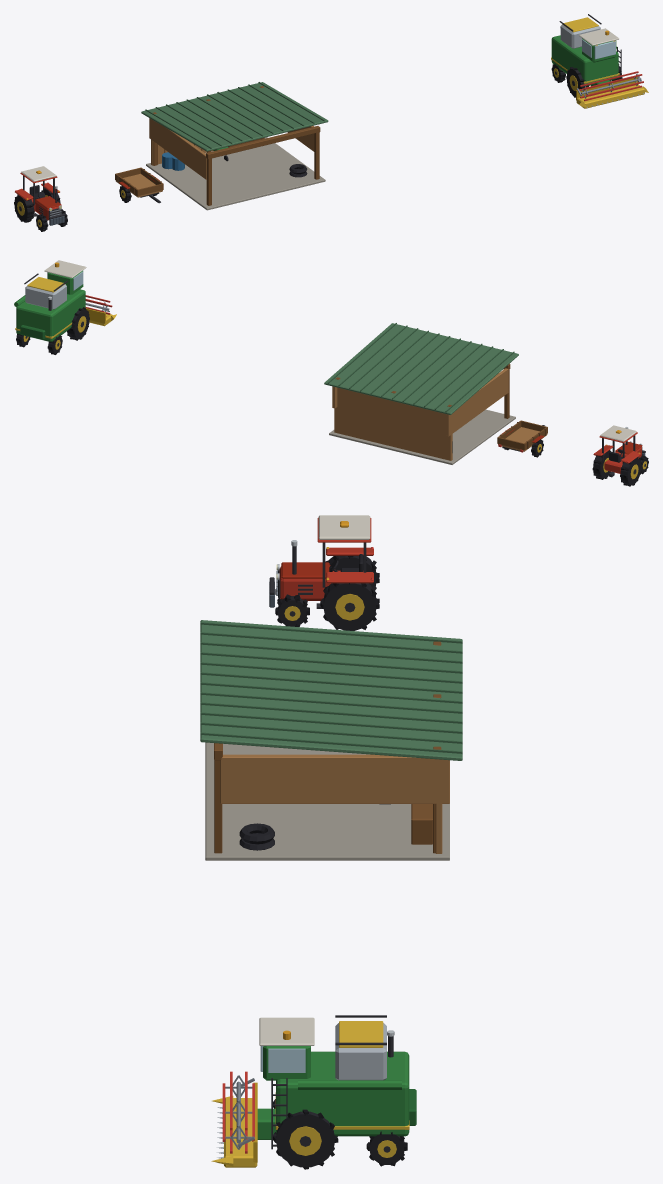
Rendered from farm-machines.glb.
3 renders of one model, top to bottom at view 1: azimuth 30°, elevation 25°; view 2: azimuth 150°, elevation 25°; view 3: azimuth 270°, elevation 25°, orthographic. The views are drawn at different scales.
Visible parts, largest first — view 1: fm_shed_mesh, fm_combine_mesh, fm_tractor_mesh, fm_trailer_mesh, fm_combine_reel_mesh, fm_tractor_wheel_bl_mesh, fm_combine_wheel_fl_mesh; view 2: fm_shed_mesh, fm_combine_mesh, fm_tractor_mesh, fm_trailer_mesh, fm_combine_wheel_fl_mesh, fm_tractor_wheel_bl_mesh, fm_tractor_wheel_br_mesh; view 3: fm_shed_mesh, fm_combine_mesh, fm_tractor_mesh, fm_combine_wheel_fr_mesh, fm_tractor_wheel_br_mesh, fm_combine_reel_mesh, fm_combine_wheel_br_mesh.
Part boxes in pixels (left/top/right/bottom): fm_shed_mesh: left=141, top=82, right=328, bottom=210; fm_combine_mesh: left=551, top=14, right=648, bottom=108; fm_tractor_mesh: left=15, top=166, right=64, bottom=225; fm_trailer_mesh: left=115, top=167, right=163, bottom=203; fm_combine_reel_mesh: left=579, top=71, right=643, bottom=101; fm_tractor_wheel_bl_mesh: left=14, top=194, right=34, bottom=222; fm_combine_wheel_fl_mesh: left=566, top=67, right=588, bottom=97; fm_shed_mesh: left=324, top=323, right=518, bottom=464; fm_combine_mesh: left=14, top=260, right=116, bottom=341; fm_tractor_mesh: left=593, top=425, right=645, bottom=477; fm_trailer_mesh: left=497, top=420, right=547, bottom=452; fm_combine_wheel_fl_mesh: left=67, top=307, right=89, bottom=340; fm_tractor_wheel_bl_mesh: left=620, top=457, right=641, bottom=486; fm_tractor_wheel_br_mesh: left=592, top=450, right=610, bottom=479; fm_shed_mesh: left=200, top=620, right=462, bottom=860; fm_combine_mesh: left=211, top=1015, right=416, bottom=1167; fm_tractor_mesh: left=269, top=515, right=375, bottom=608; fm_combine_wheel_fr_mesh: left=273, top=1109, right=338, bottom=1169; fm_tractor_wheel_br_mesh: left=320, top=583, right=379, bottom=630; fm_combine_reel_mesh: left=222, top=1071, right=254, bottom=1153; fm_combine_wheel_br_mesh: left=366, top=1131, right=407, bottom=1166.
Size of the model in its own units: 37.15 by 3.79 by 7.08.
